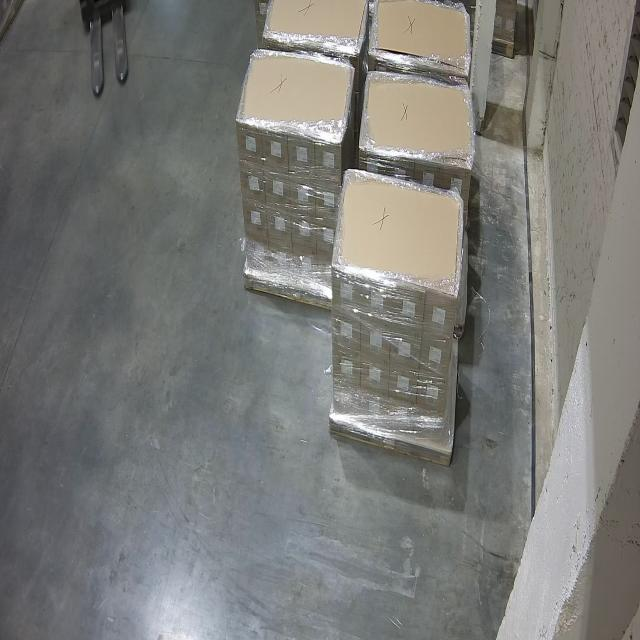pallet: (333, 168, 467, 299), (237, 50, 355, 143), (360, 74, 472, 168), (370, 0, 468, 73), (263, 0, 370, 52)
